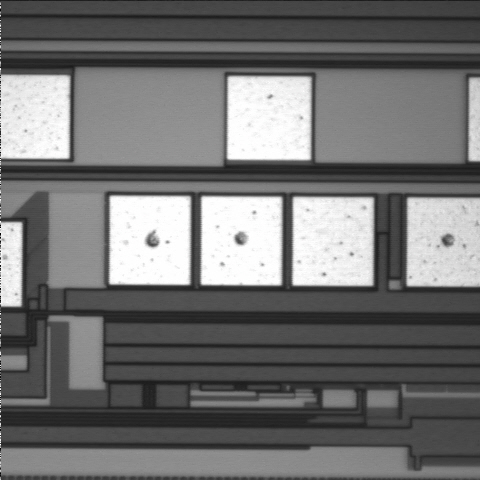pad: (109, 196, 191, 285), (292, 197, 374, 286), (201, 196, 282, 285), (227, 76, 311, 160)
